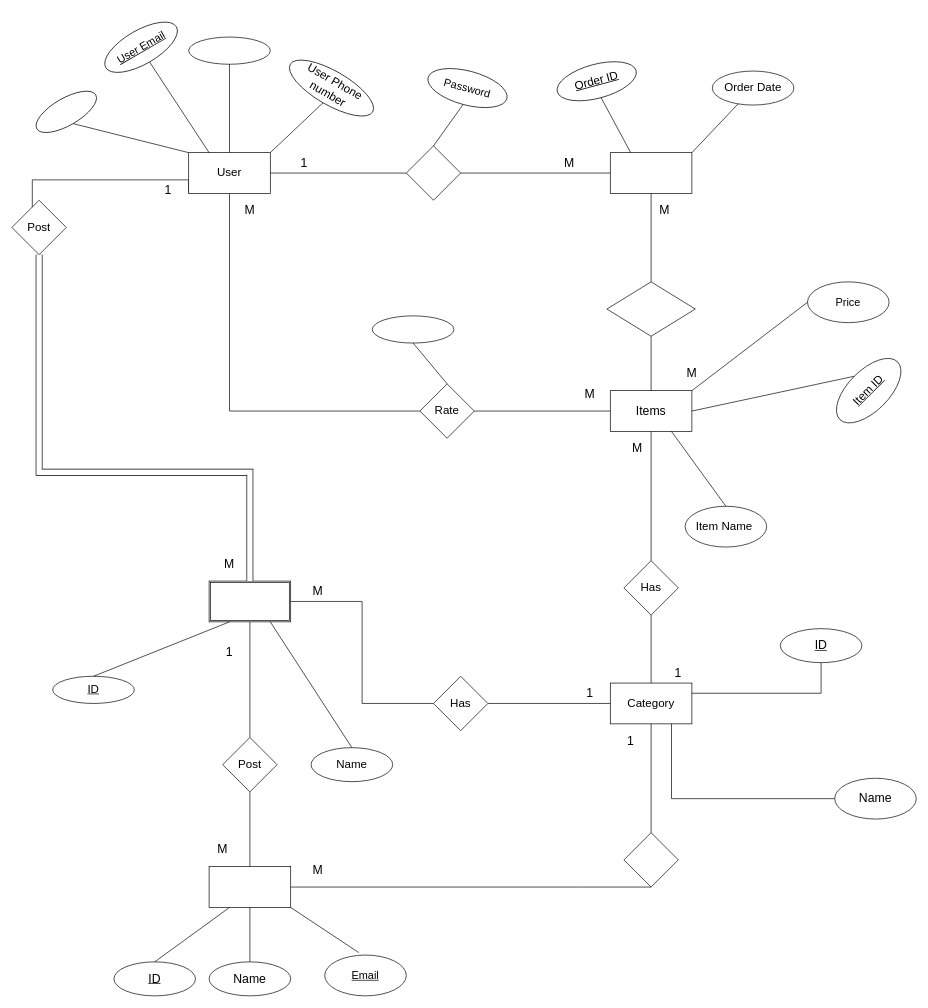
The diagram is 928 pixels wide and 1008 high, and some of its shapes have lost their labels. The box of each missing label's shape, as (x1, y1, x2, y2) in pixels:
Add: (623, 832, 678, 887)
Admin: (208, 866, 291, 907)
ADS: (208, 580, 291, 622)
Contained: (606, 281, 695, 336)
Order: (406, 145, 461, 200)
Orders: (610, 152, 692, 193)
User ID: (29, 82, 103, 141)
User Name: (188, 36, 270, 64)
Value: (372, 315, 454, 343)
